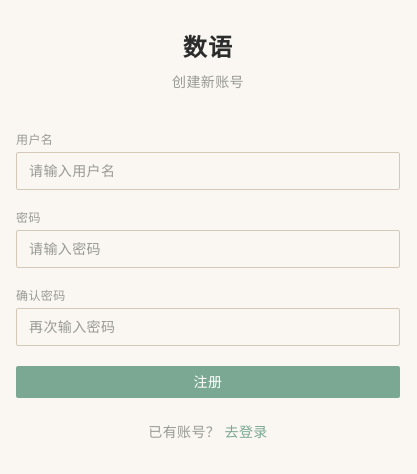
RegisterPage › shows error when passwords do not match
Type "user" into the field with placeholder "请输入用户名" at point(208, 171), box [16,152,400,190]
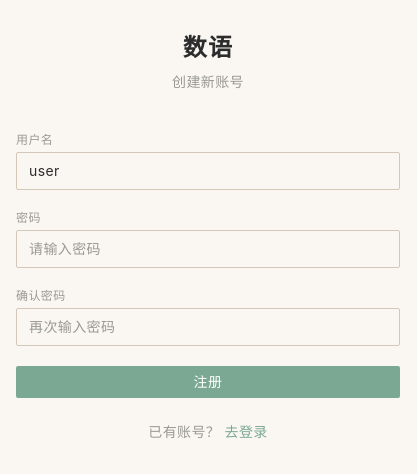
Type "pass123" into the password field with placeholder "请输入密码" at point(208, 249), box [16,230,400,268]
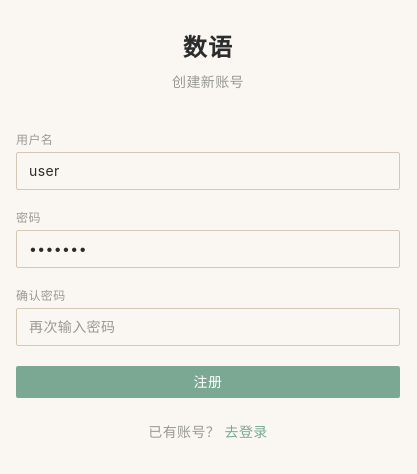
Type "different" into the password field with placeholder "再次输入密码" at point(208, 327), box [16,308,400,346]
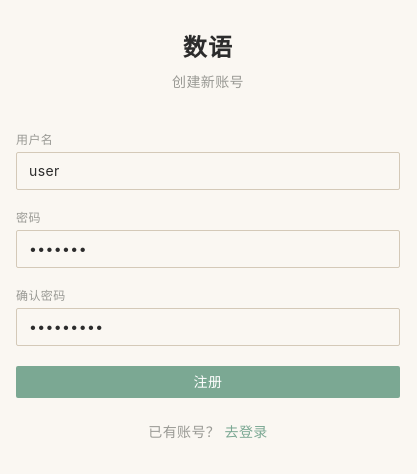
Click the button "注册" at point(208, 382), box [16,366,400,398]
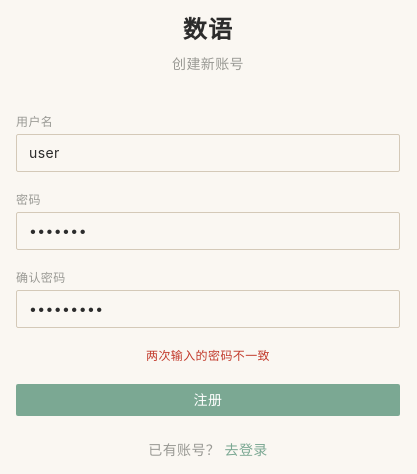
Check: the text "两次输入的密码不一致" is shown, box [146,348,270,363]
